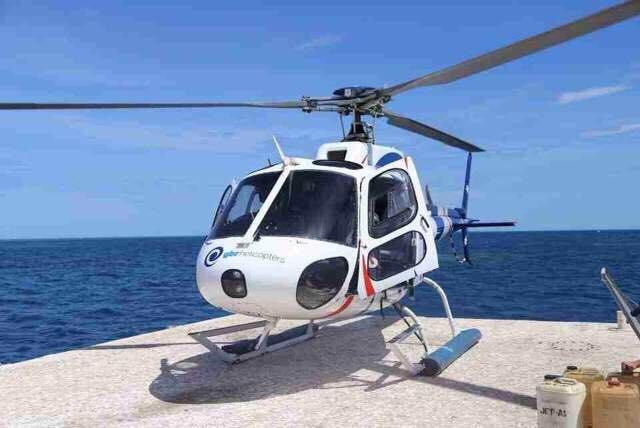airplane: (103, 7, 640, 368)
